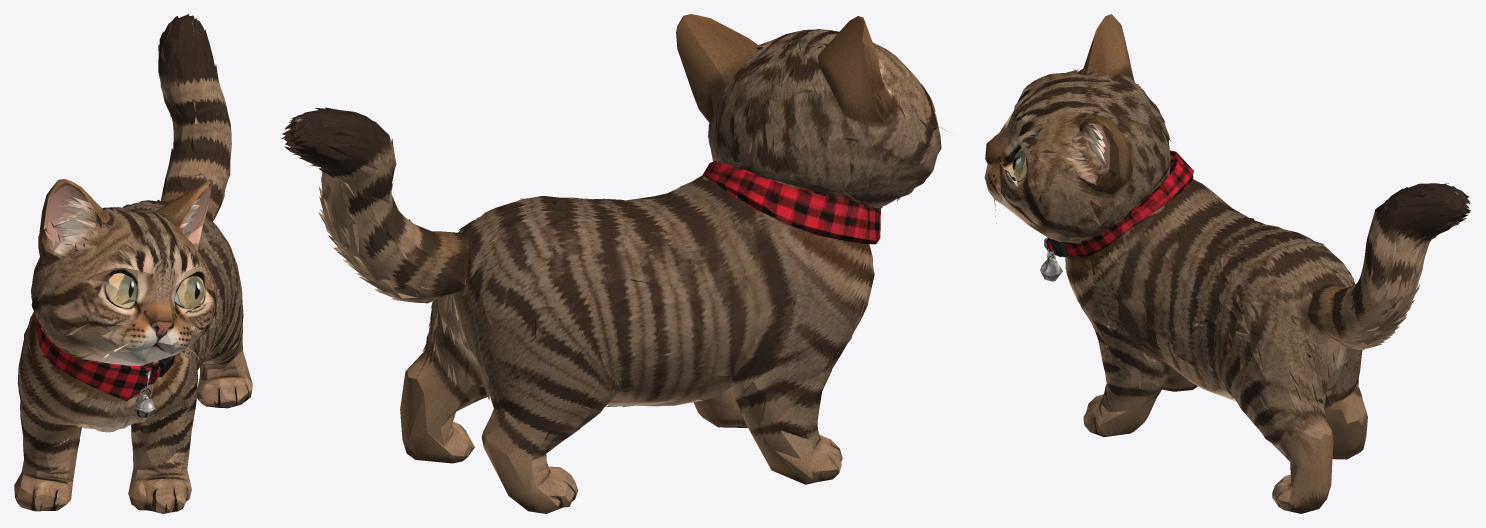
File: gorge.glb
3 views of the same model, side by side, from view 1: azimuth 30°, elevation 25°; view 2: azimuth 150°, elevation 25°; view 3: azimuth 270°, elevation 25° (orthographic). The views are drawn at different scales.
Bounding box in the file's own units: 1.59 × 1.55 × 1.89.
1 material, 1 textured.
